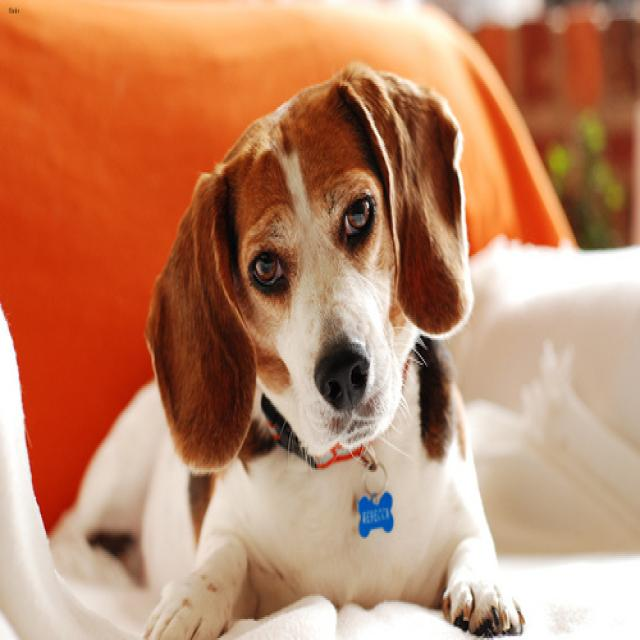dog-beagle: (41, 44, 535, 636)
